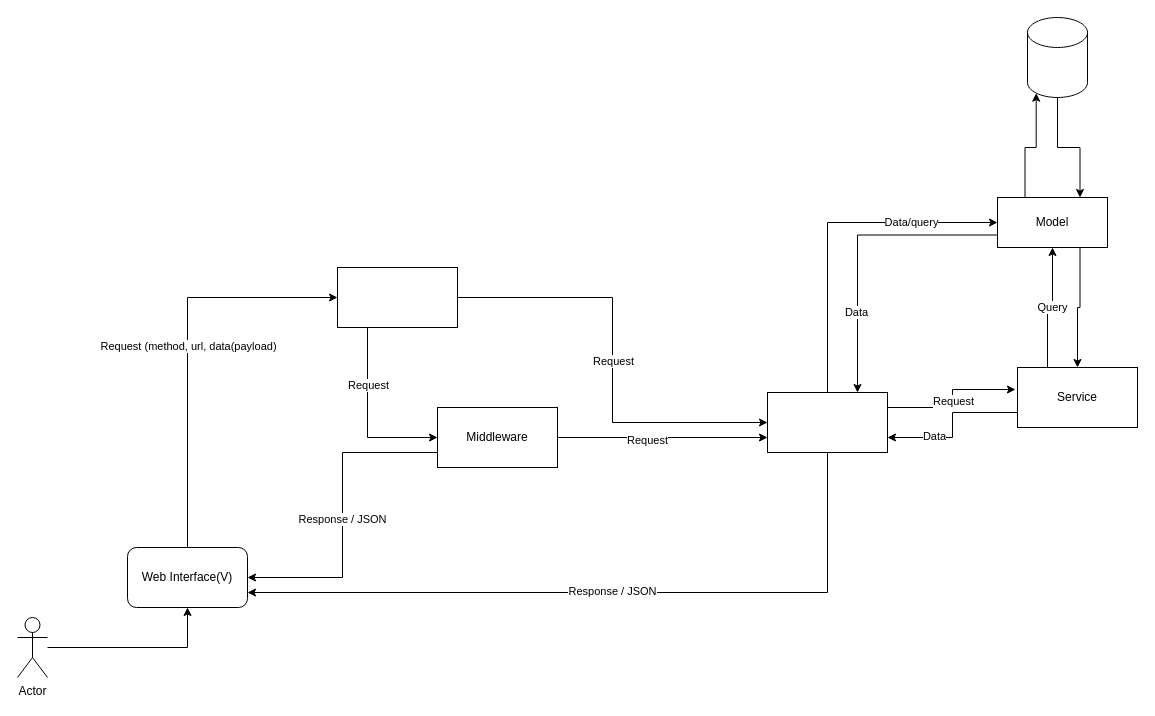
This 1155x716 diagram has some shape labels left out. Here are the shapes that lost their labels. From the top down, the box of each, then its label:
(1026, 16, 1088, 98): DB
(336, 266, 458, 328): Route
(766, 392, 888, 452): Controller
